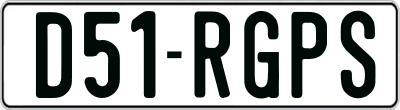1: (129, 10, 159, 103)
5: (81, 10, 117, 98)
D: (33, 9, 69, 100)
G: (242, 10, 283, 102)
P: (289, 12, 329, 101)
R: (194, 9, 230, 98)
S: (338, 8, 375, 99)
